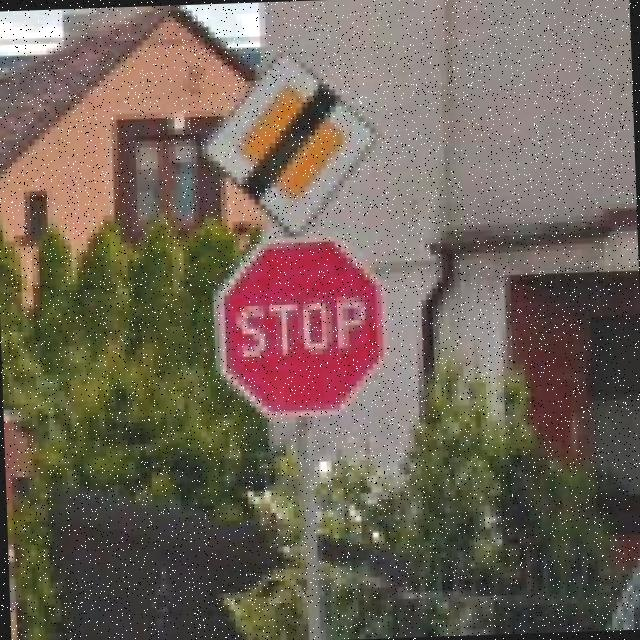Droga z pierwszenstwem: (198, 46, 385, 242)
Stop: (210, 233, 390, 425)
